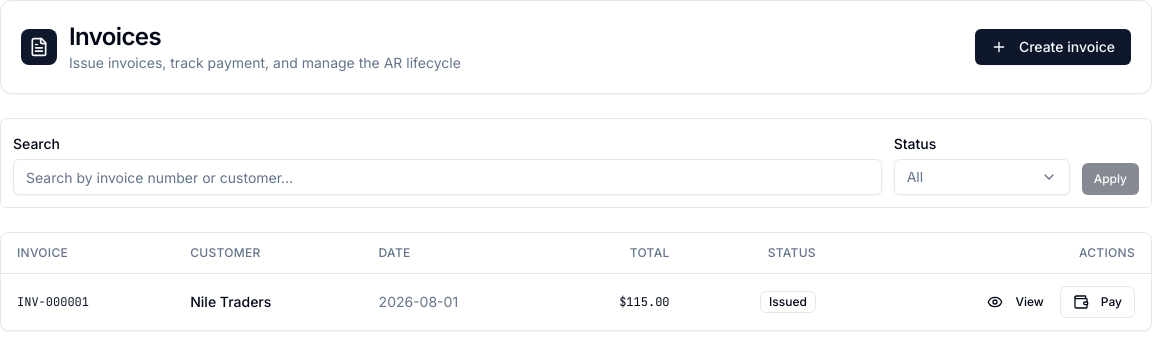
InvoicesView — search + status filter + pagination › commits the search query to the hook on Apply
This screenshot has width=1152, height=348.
Type "Nile" into the search field labelled "Search".
click(447, 177); type("Nile")  # box [13,159,882,195]
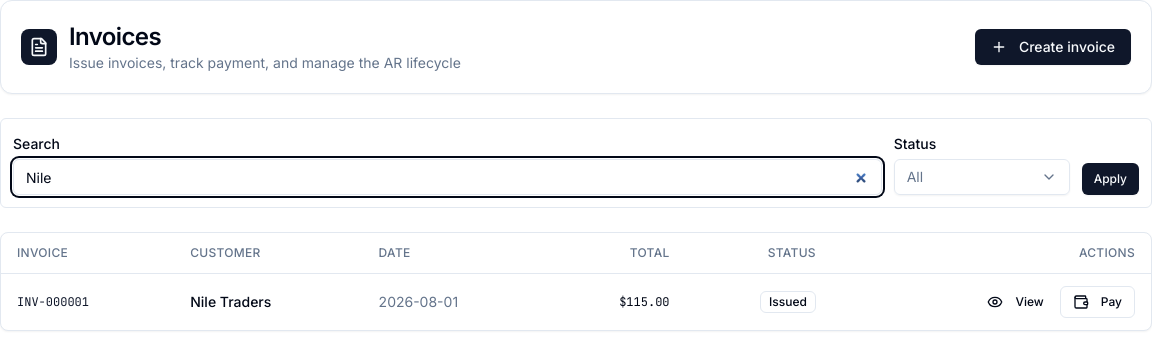
Click the button "Apply".
click(1110, 179)  # box [1082,163,1139,195]
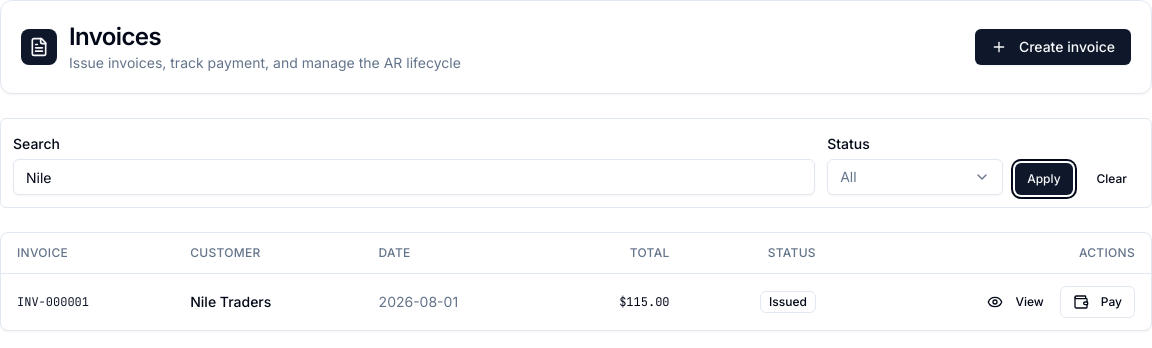
Check: the button "Clear" is shown, box [1084,163,1139,195]
